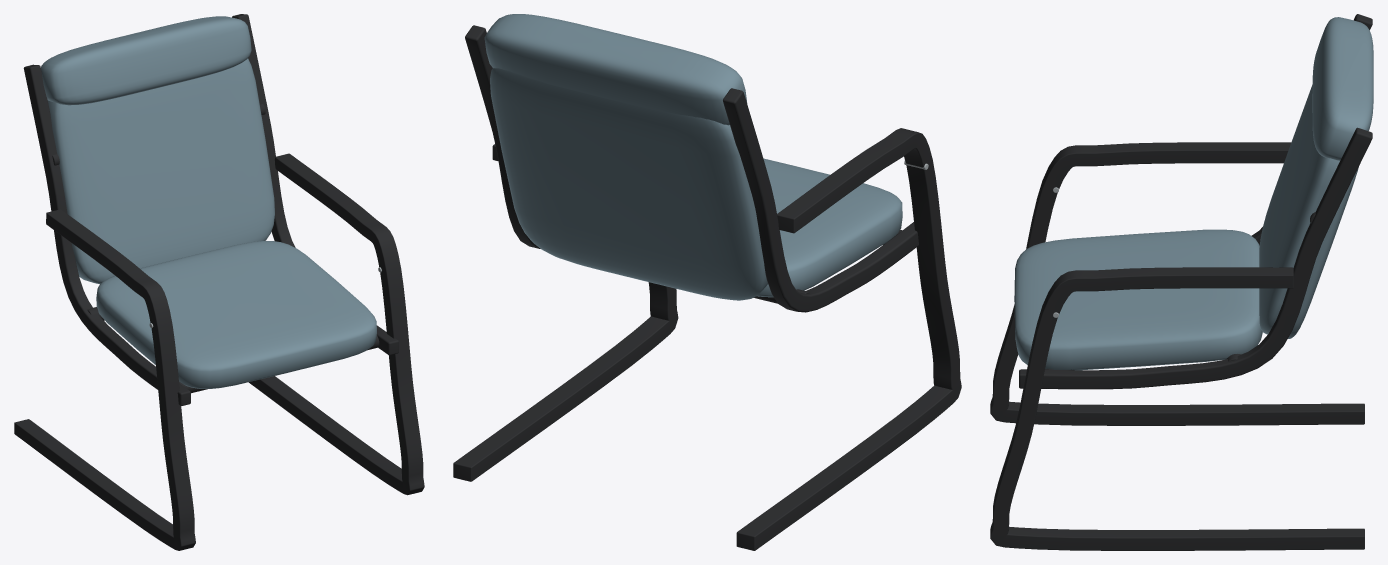
File: armchair.glb
The picture shows the model from 3 angles, left to right: view 1: azimuth 30°, elevation 25°; view 2: azimuth 150°, elevation 25°; view 3: azimuth 270°, elevation 25°; orthographic projection. The views are drawn at different scales.
Parts seen in each view (by area): view 1: Long_reclined_back_pad, Poang_seat_pad, Continuous_bentwood_cantilever, Continuous_bentwood_cantilever.001, Attached_head_cushion, Laminated_seat_back_rail, Laminated_seat_back_rail.001; view 2: Long_reclined_back_pad, Continuous_bentwood_cantilever, Attached_head_cushion, Poang_seat_pad, Laminated_seat_back_rail, Continuous_bentwood_cantilever.001, Laminated_seat_back_rail.001; view 3: Poang_seat_pad, Continuous_bentwood_cantilever.001, Continuous_bentwood_cantilever, Laminated_seat_back_rail.001, Long_reclined_back_pad, Attached_head_cushion.
Part boxes in pixels (x1,y1,x2,y2): Long_reclined_back_pad: (47,58,274,284); Poang_seat_pad: (96,241,376,388); Continuous_bentwood_cantilever: (14,209,195,550); Continuous_bentwood_cantilever.001: (249,153,424,495); Attached_head_cushion: (41,16,251,105); Laminated_seat_back_rail: (23,64,190,405); Laminated_seat_back_rail.001: (232,14,398,355); Long_reclined_back_pad: (490,68,767,300); Continuous_bentwood_cantilever: (736,128,961,550); Attached_head_cushion: (484,14,747,125); Poang_seat_pad: (756,158,902,297); Laminated_seat_back_rail: (723,88,918,312); Continuous_bentwood_cantilever.001: (453,144,678,481); Laminated_seat_back_rail.001: (465,25,540,248); Poang_seat_pad: (1014,229,1262,370); Continuous_bentwood_cantilever.001: (990,267,1364,550); Continuous_bentwood_cantilever: (990,142,1364,425); Laminated_seat_back_rail.001: (1019,127,1372,389); Long_reclined_back_pad: (1259,84,1358,338); Attached_head_cushion: (1312,17,1373,160).
Size of the model in its own units: 0.68 by 1 by 0.82.
